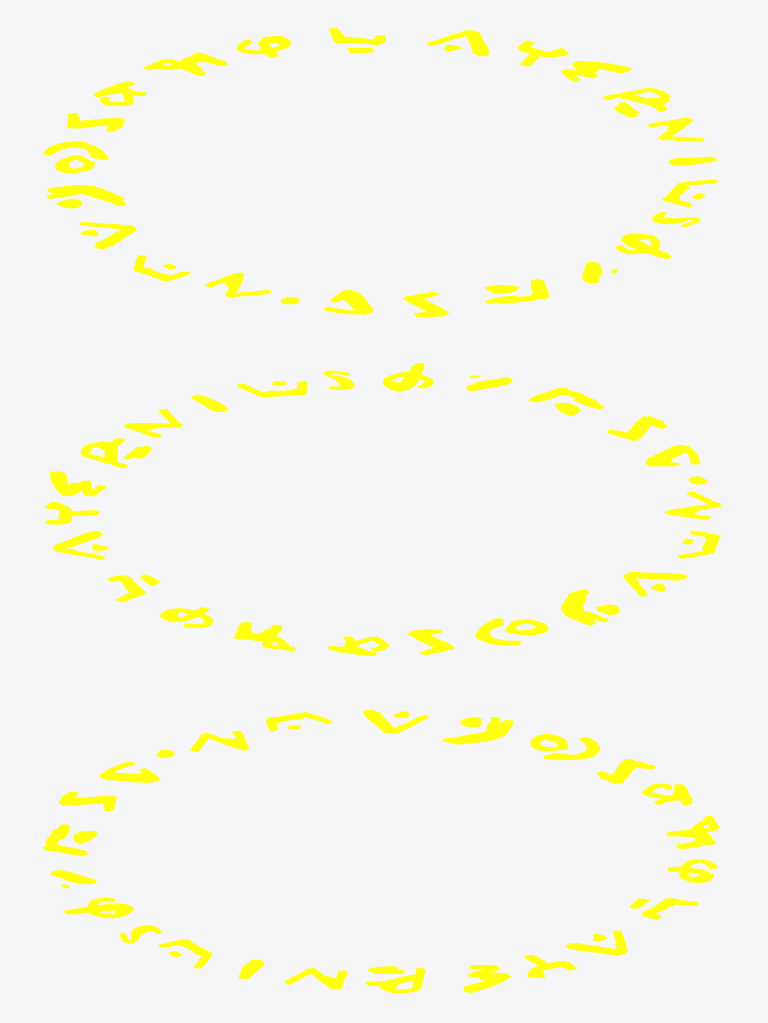
Rendered from Runes.fbx.
3 renders of one model, top to bottom at view 1: azimuth 30°, elevation 25°; view 2: azimuth 150°, elevation 25°; view 3: azimuth 270°, elevation 25°, orthographic.
Visible parts, largest first — view 1: Runes; view 2: Runes; view 3: Runes.
Part boxes in pixels (bbox=[...]): Runes: bbox=[43, 28, 717, 317]; Runes: bbox=[44, 363, 721, 655]; Runes: bbox=[42, 709, 718, 993].
Size of the model in its own units: 200 by 3.26e-05 by 200.
